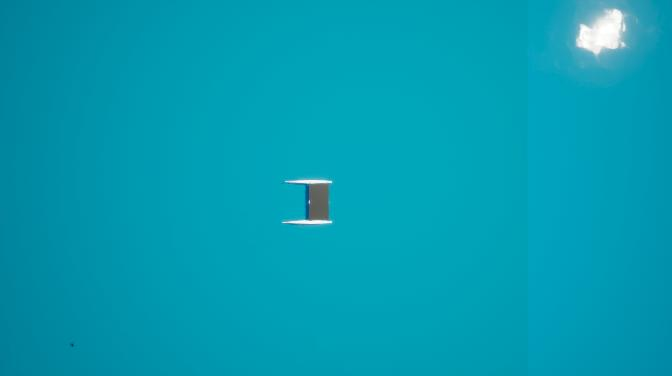boat: (281, 177, 334, 229)
drone: (68, 339, 77, 350)
land_base: (309, 184, 328, 221)
light_reflex: (553, 2, 661, 71)
